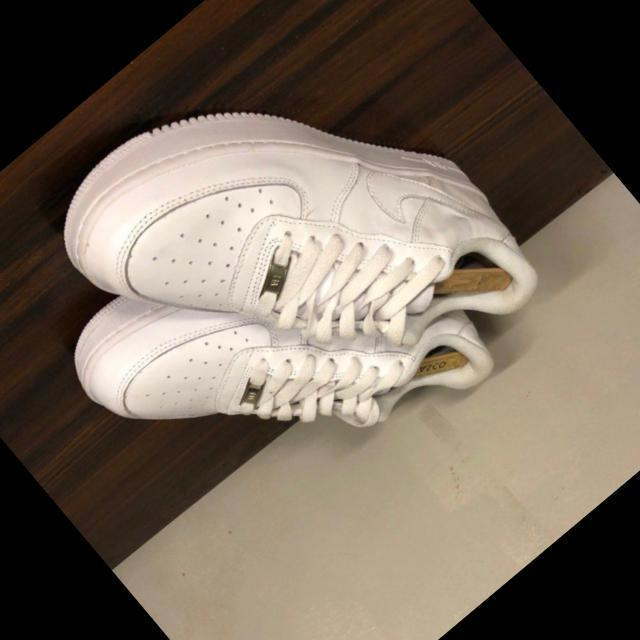nike fake air force: (29, 0, 547, 512), (43, 122, 512, 585)
